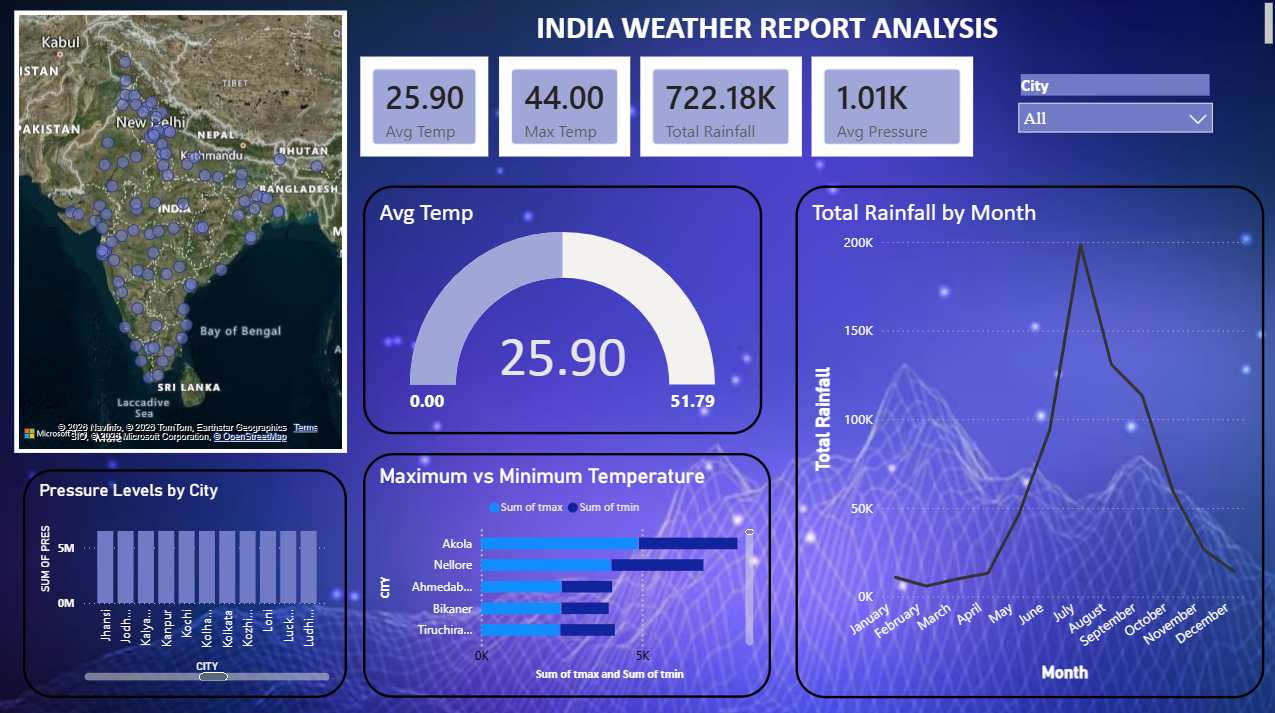

Layout of this report page (visuals, bound fields, positions):
{"tool":"powerbi","page":{"name":"Page 1","canvas":[1280,720],"ordinal":0},"visuals":[{"type":"textbox","box":[339,0,941,53.1],"z":0},{"type":"slicer","fields":{"Values":["popular_cities_weather (2).city"]},"box":[1009.8,71.2,214.7,91.7],"z":1000},{"type":"map","fields":{"Category":["popular_cities_weather (2).city"],"Size":["popular_cities_weather.Avg Temp"]},"box":[15.7,12.1,333,442.8],"z":2000},{"type":"cardVisual","fields":{"Data":["popular_cities_weather.Avg Temp"]},"box":[357.8,53.3,138.9,110],"z":3000},{"type":"cardVisual","fields":{"Data":["popular_cities_weather.Max Temp"]},"box":[496.7,53.3,141.1,110],"z":4000},{"type":"cardVisual","fields":{"Data":["popular_cities_weather.Total Rainfall"]},"box":[637.8,53.3,171.1,110],"z":5000},{"type":"cardVisual","fields":{"Data":["popular_cities_weather.Avg Pressure"]},"box":[808.9,53.3,171.1,110],"z":6000},{"type":"gauge","fields":{"Y":["popular_cities_weather.Avg Temp"]},"box":[365.6,187,399.3,248.5],"z":7000},{"type":"barChart","title":"Maximum vs Minimum Temperature","fields":{"Category":["popular_cities_weather.city"],"Y":["Sum(popular_cities_weather.tmax)","Sum(popular_cities_weather.tmin)"]},"box":[365.6,454.8,407.8,244.9],"z":8000},{"type":"lineStackedColumnComboChart","title":"Pressure Levels by City","fields":{"Category":["popular_cities_weather (2).city"],"Y":["Sum(popular_cities_weather.pres)"]},"box":[25,471.2,323.8,228.8],"z":9000},{"type":"lineChart","fields":{"Category":["popular_cities_weather.date.Variation.Date Hierarchy.Year","popular_cities_weather.date.Variation.Date Hierarchy.Quarter","popular_cities_weather.date.Variation.Date Hierarchy.Month","popular_cities_weather.date.Variation.Date Hierarchy.Day"],"Y":["popular_cities_weather.Total Rainfall"]},"box":[797.5,187.5,468.8,512.5],"z":10000}]}

Visuals, with their boxes in screenshot pixels (x1, y1, x2, y2), scaled from the page's 1280x720 canvas onto the 1275x713 screenshot:
textbox: <bbox>338, 0, 1274, 53</bbox>
slicer - popular_cities_weather (2).city: <bbox>1006, 71, 1220, 161</bbox>
map - popular_cities_weather (2).city x popular_cities_weather.Avg Temp: <bbox>16, 12, 347, 450</bbox>
cardVisual - popular_cities_weather.Avg Temp: <bbox>356, 53, 495, 162</bbox>
cardVisual - popular_cities_weather.Max Temp: <bbox>495, 53, 635, 162</bbox>
cardVisual - popular_cities_weather.Total Rainfall: <bbox>635, 53, 806, 162</bbox>
cardVisual - popular_cities_weather.Avg Pressure: <bbox>806, 53, 976, 162</bbox>
gauge - popular_cities_weather.Avg Temp: <bbox>364, 185, 762, 431</bbox>
"Maximum vs Minimum Temperature" barChart: <bbox>364, 450, 770, 693</bbox>
"Pressure Levels by City" lineStackedColumnComboChart: <bbox>25, 467, 347, 693</bbox>
lineChart - popular_cities_weather.date.Variation.Date Hierarchy.Year x popular_cities_weather.date.Variation.Date Hierarchy.Quarter: <bbox>794, 186, 1261, 693</bbox>
